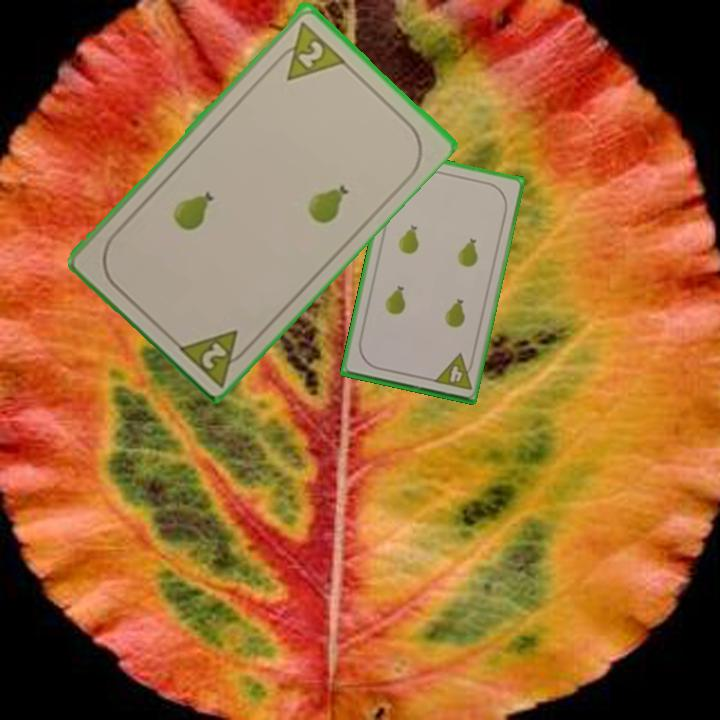2p: (172, 325, 256, 388), (268, 17, 347, 83)
4p: (430, 350, 477, 393)
